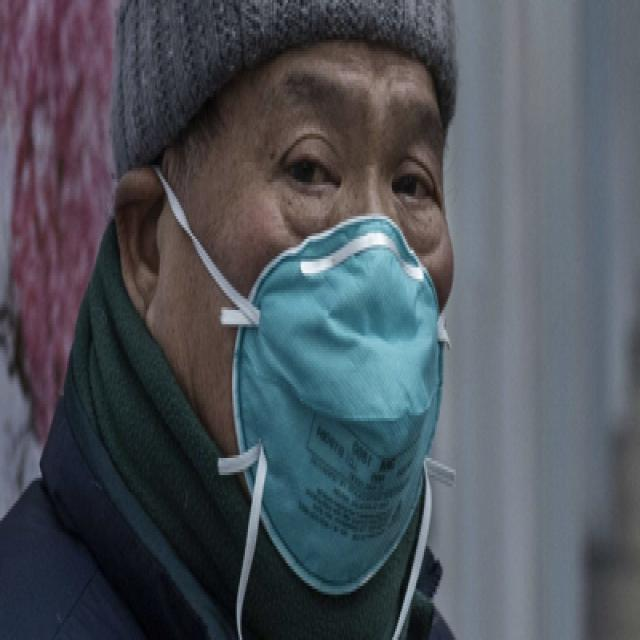mask: (170, 51, 452, 521)
